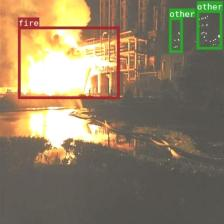fire: (17, 26, 119, 99)
